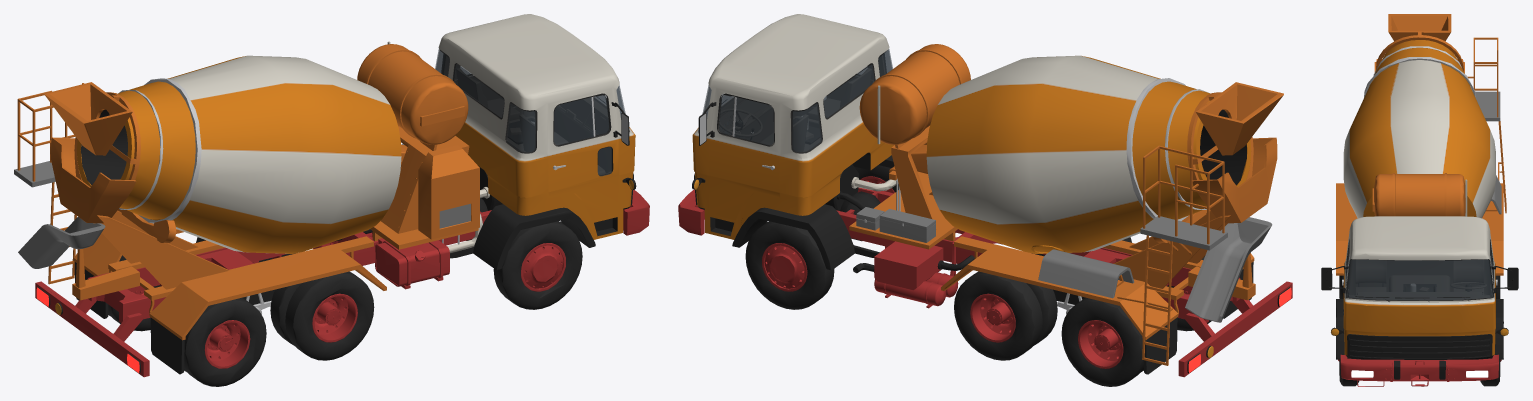
File: mixer.glb
The picture shows the model from 3 angles, left to right: view 1: azimuth 30°, elevation 25°; view 2: azimuth 150°, elevation 25°; view 3: azimuth 270°, elevation 25°; orthographic projection. The views are drawn at different scales.
Parts seen in each view (by area): view 1: body, drum, wheel_RR, wheel_FR, wheel_RR2; view 2: body, drum, wheel_RL, wheel_FL, wheel_RL2, wheel_FR; view 3: body, drum.
Boxes of the visible parts, x1=… form: body: x1=14, y1=14, x2=649, y2=377; drum: x1=77, y1=55, x2=401, y2=253; wheel_RR: x1=270, y1=271, x2=374, y2=360; wheel_FR: x1=493, y1=221, x2=582, y2=309; wheel_RR2: x1=184, y1=297, x2=266, y2=386; body: x1=678, y1=14, x2=1292, y2=377; drum: x1=926, y1=55, x2=1251, y2=253; wheel_RL: x1=954, y1=271, x2=1057, y2=360; wheel_FL: x1=745, y1=221, x2=834, y2=309; wheel_RL2: x1=1061, y1=297, x2=1143, y2=386; wheel_FR: x1=854, y1=165, x2=898, y2=193; body: x1=1321, y1=14, x2=1518, y2=386; drum: x1=1343, y1=40, x2=1495, y2=218.
Size of the model in its own units: 7.23 by 3.39 by 2.92.
14 materials, 2 textured.
